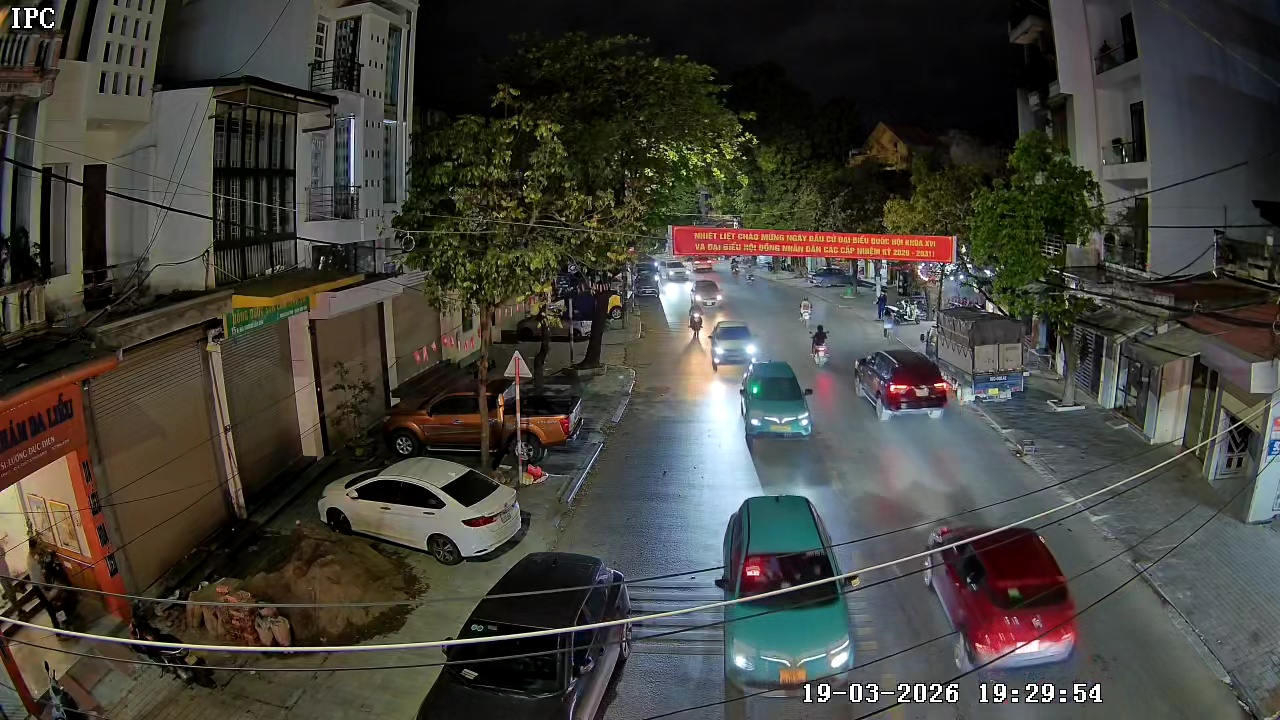car: (414, 548, 635, 719), (716, 492, 858, 717), (318, 455, 531, 561), (738, 358, 816, 449), (856, 347, 953, 419), (711, 318, 761, 374), (691, 276, 725, 309)
motorbike: (810, 321, 831, 366), (688, 296, 705, 333), (798, 294, 813, 327)
